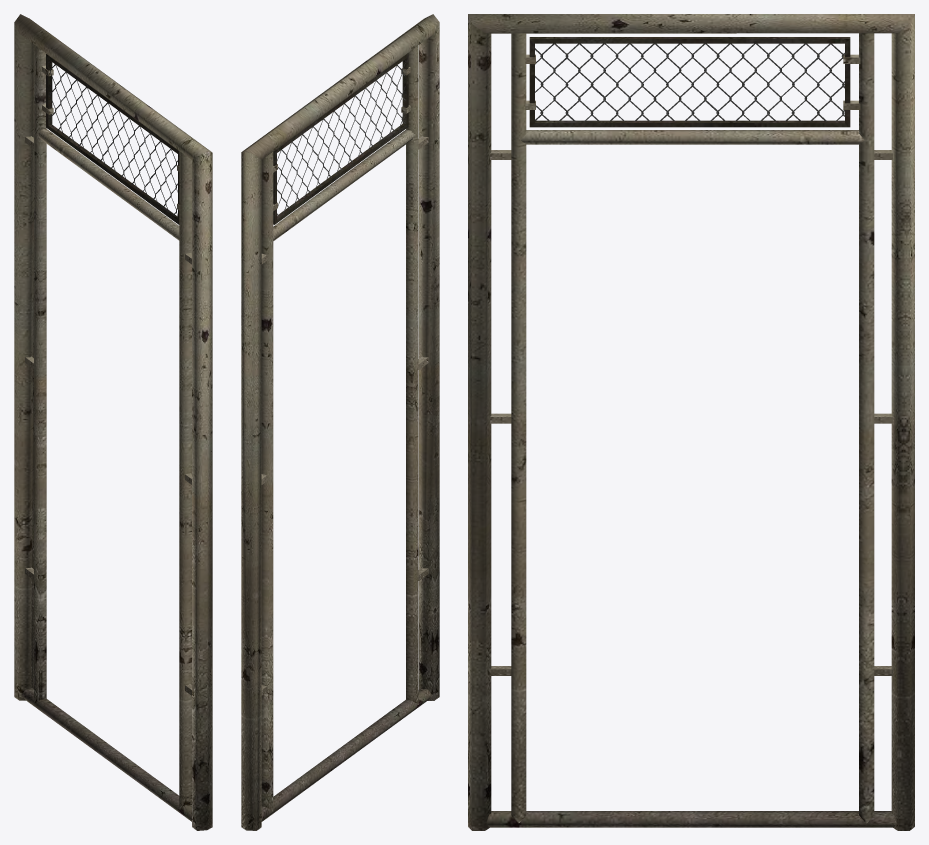
Rendered from interior_fence002e.glb.
3 renders of one model, left to right at view 1: azimuth 30°, elevation 25°; view 2: azimuth 150°, elevation 25°; view 3: azimuth 270°, elevation 25°, orthographic. The views are drawn at different scales.
Parts seen in each view (by area): view 1: 0_prison_yard001, 1_fence_alpha; view 2: 0_prison_yard001, 1_fence_alpha; view 3: 0_prison_yard001, 1_fence_alpha.
Boxes of the visible parts, left/top/right/bottom form: 0_prison_yard001: left=14, top=14, right=212, bottom=830; 1_fence_alpha: left=49, top=64, right=177, bottom=216; 0_prison_yard001: left=241, top=14, right=439, bottom=830; 1_fence_alpha: left=277, top=63, right=405, bottom=216; 0_prison_yard001: left=468, top=14, right=914, bottom=830; 1_fence_alpha: left=535, top=43, right=844, bottom=121.
Size of the model in its own units: 0.0775 by 3.26 by 1.63.
Materials: 2 (2 with a texture image).
